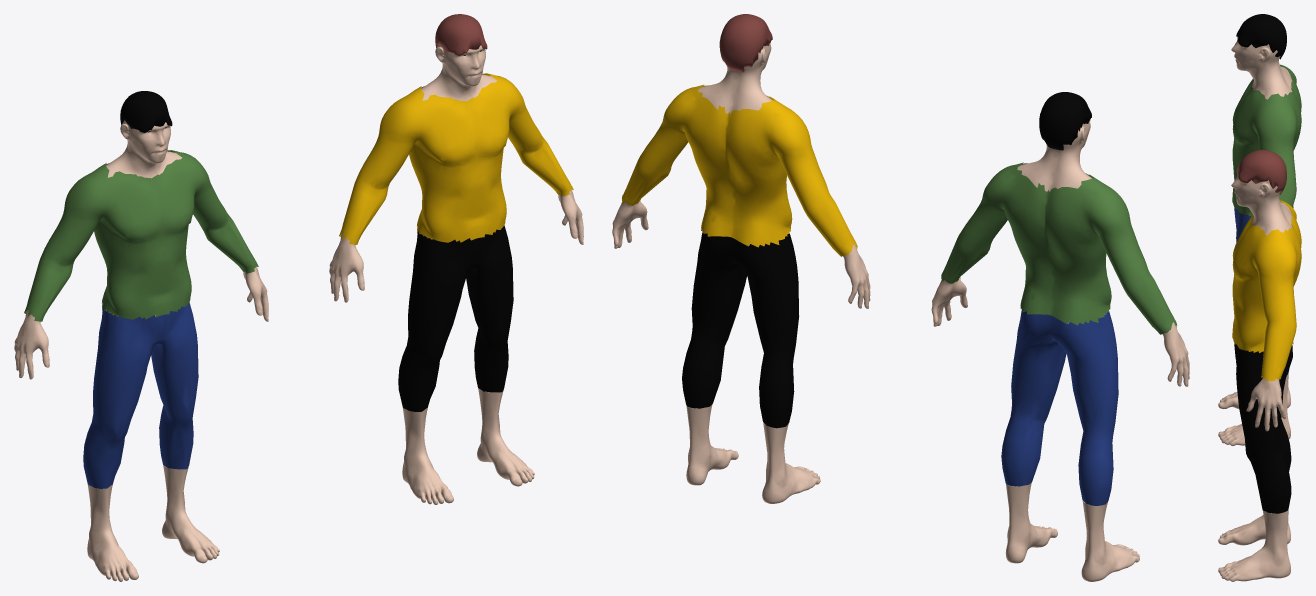
The model's file is NPCSUSHI.fbx.
The picture shows the model from 3 angles, left to right: view 1: azimuth 30°, elevation 25°; view 2: azimuth 150°, elevation 25°; view 3: azimuth 270°, elevation 25°; orthographic projection. The views are drawn at different scales.
Visible parts, largest first — view 1: FinalBaseMesh.001, FinalBaseMesh.008, FinalBaseMesh.005, FinalBaseMesh.007, FinalBaseMesh.006, FinalBaseMesh, FinalBaseMesh.004, FinalBaseMesh.009; view 2: FinalBaseMesh.001, FinalBaseMesh.008, FinalBaseMesh.005, FinalBaseMesh.007, FinalBaseMesh, FinalBaseMesh.006, FinalBaseMesh.009, FinalBaseMesh.004; view 3: FinalBaseMesh.008, FinalBaseMesh.006, FinalBaseMesh.007, FinalBaseMesh.001, FinalBaseMesh, FinalBaseMesh.004, FinalBaseMesh.009, FinalBaseMesh.005.
Part boxes in pixels (<box>): FinalBaseMesh.001: <box>24,150,258,321</box>; FinalBaseMesh.008: <box>339,73,573,244</box>; FinalBaseMesh.005: <box>83,302,198,488</box>; FinalBaseMesh.007: <box>398,225,513,411</box>; FinalBaseMesh.006: <box>329,43,583,504</box>; FinalBaseMesh: <box>14,120,268,581</box>; FinalBaseMesh.004: <box>120,91,172,132</box>; FinalBaseMesh.009: <box>435,14,487,55</box>; FinalBaseMesh.001: <box>941,162,1177,334</box>; FinalBaseMesh.008: <box>622,84,857,256</box>; FinalBaseMesh.005: <box>1001,311,1118,505</box>; FinalBaseMesh.007: <box>682,233,799,428</box>; FinalBaseMesh: <box>931,120,1189,581</box>; FinalBaseMesh.006: <box>612,42,870,503</box>; FinalBaseMesh.009: <box>719,14,772,72</box>; FinalBaseMesh.004: <box>1039,92,1091,150</box>; FinalBaseMesh.008: <box>1232,200,1301,381</box>; FinalBaseMesh.006: <box>1218,172,1292,581</box>; FinalBaseMesh.007: <box>1234,343,1292,513</box>; FinalBaseMesh.001: <box>1232,64,1301,216</box>; FinalBaseMesh: <box>1218,36,1292,445</box>; FinalBaseMesh.004: <box>1236,14,1286,59</box>; FinalBaseMesh.009: <box>1236,149,1286,194</box>; FinalBaseMesh.005: <box>1234,207,1289,374</box>.
Bounding box in the file's own units: 2653 × 2078 × 385.
